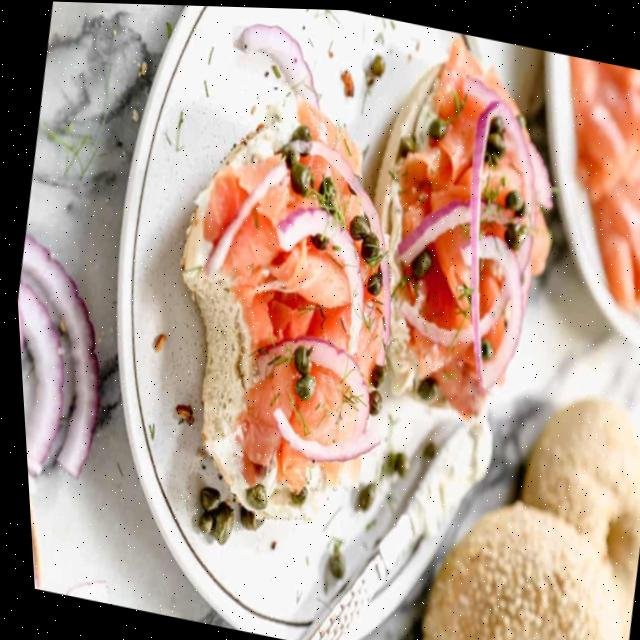Bagel: (514, 395, 640, 640), (413, 498, 614, 640)
